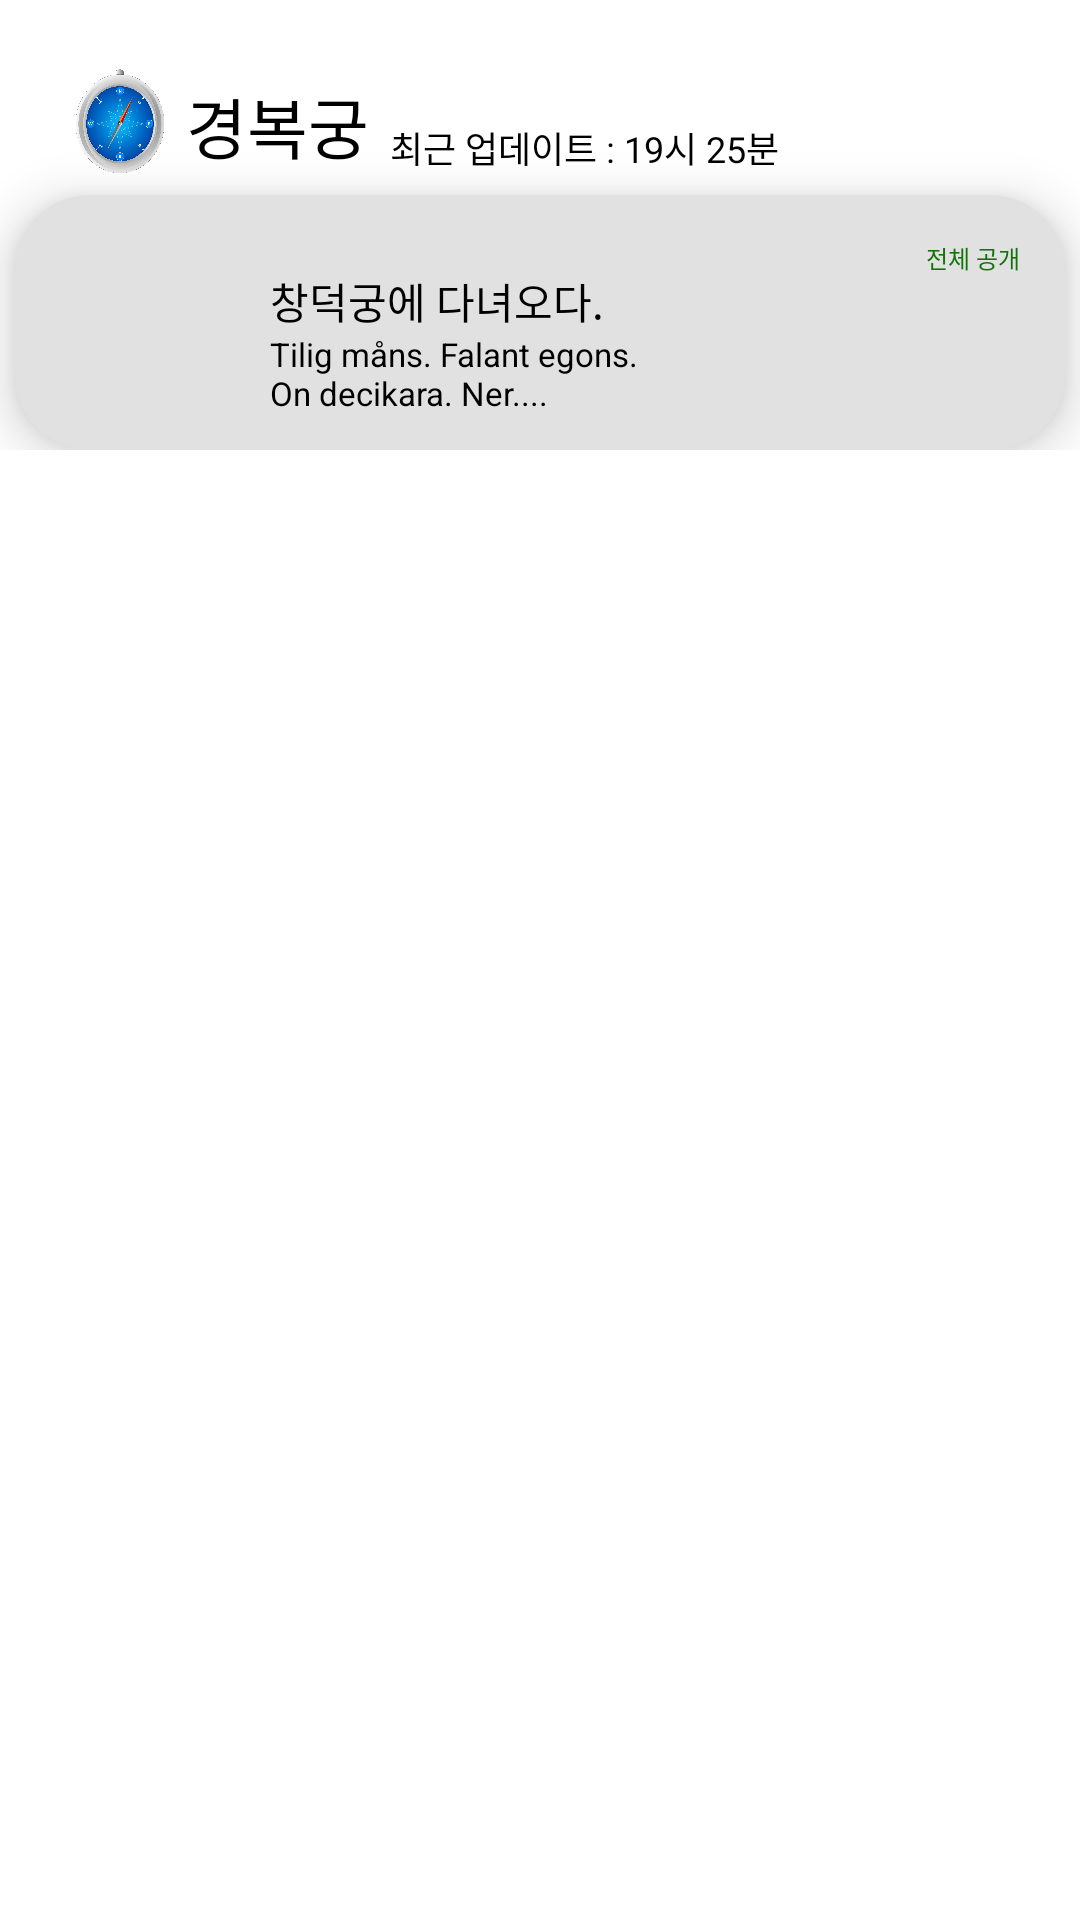

Screen size 1080x1920. Icon name, then its box in pixels as box(x1, y1, x2, y2):
compass: box(76, 69, 164, 173)
